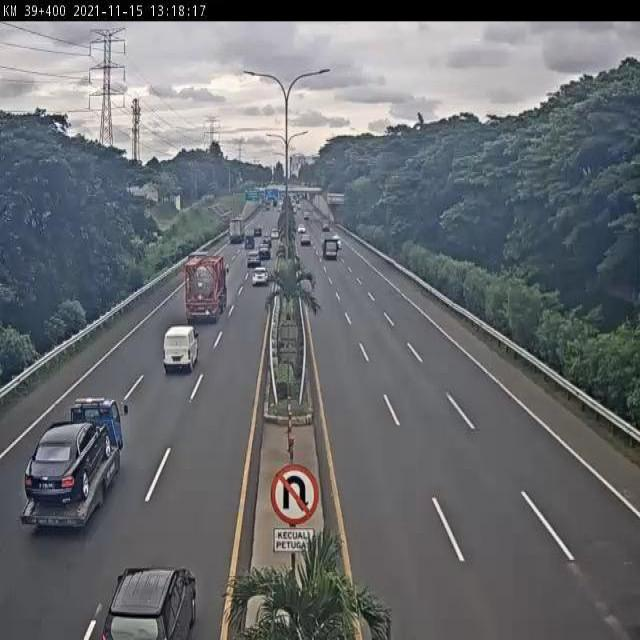bus-s-: (162, 324, 201, 373)
truck-m-: (21, 393, 126, 531)
truck-xl-: (184, 252, 229, 324)
